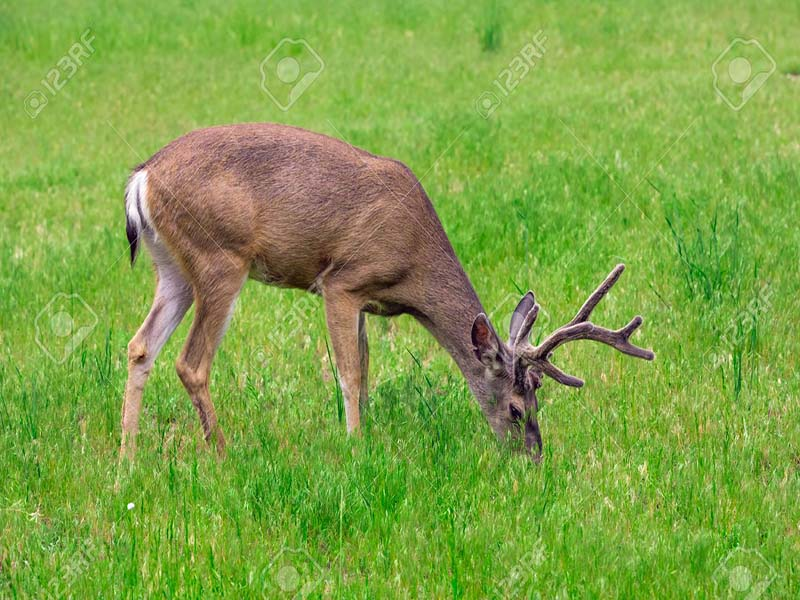cervo: (115, 124, 664, 481)
